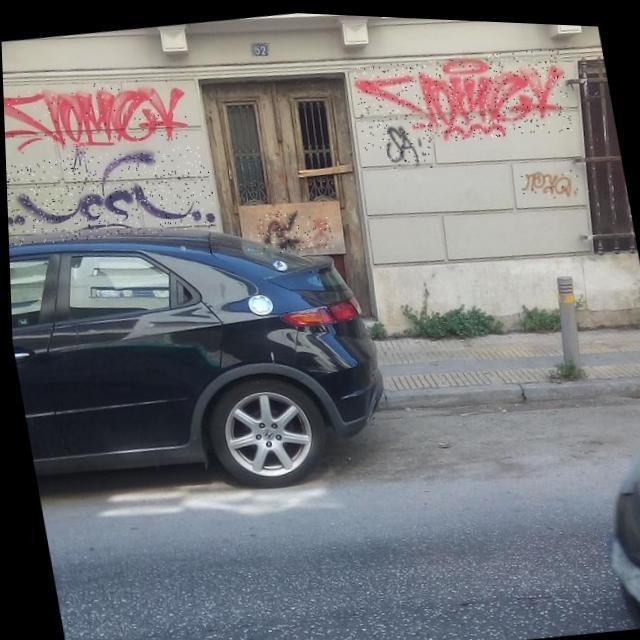-: (351, 35, 574, 155), (4, 136, 217, 254), (2, 67, 193, 165), (254, 207, 333, 254), (381, 112, 434, 170), (518, 160, 580, 198), (260, 205, 302, 253), (66, 141, 92, 172)
